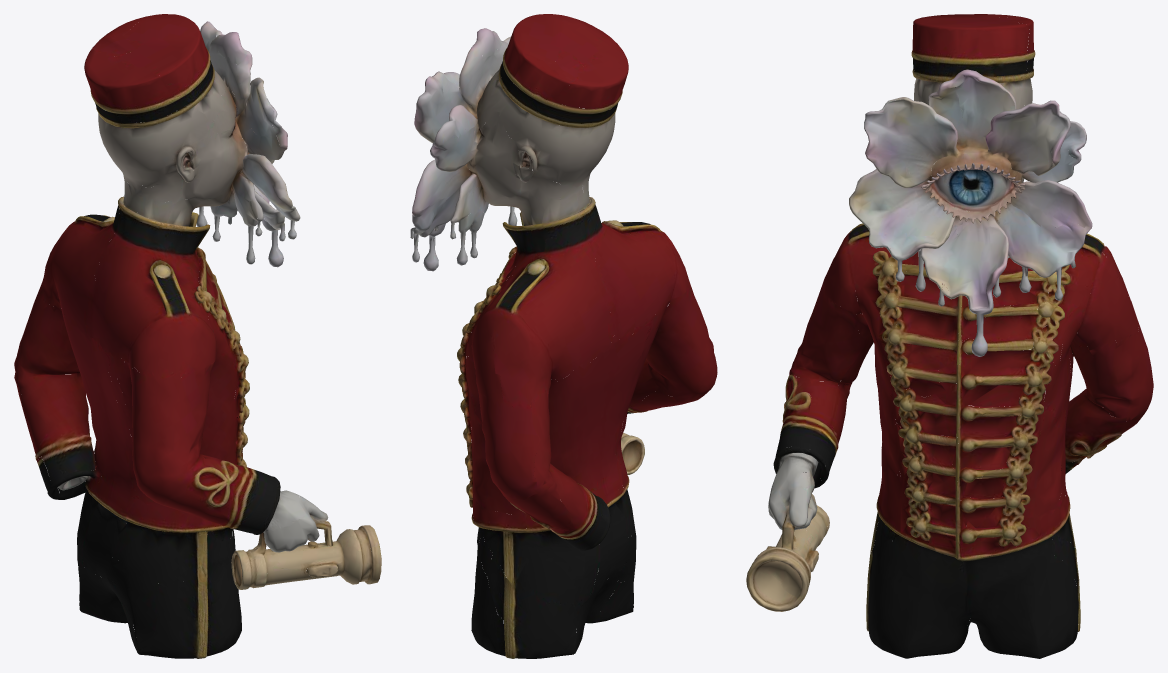
Rendered from usher.glb.
3 views of the same model, side by side, from view 1: azimuth 30°, elevation 25°; view 2: azimuth 150°, elevation 25°; view 3: azimuth 270°, elevation 25° (orthographic). The views are drawn at different scales.
Visible parts, largest first — view 1: tripo_node_609a2048-9cf5-4e91-bd56-d91e4a2d77e3; view 2: tripo_node_609a2048-9cf5-4e91-bd56-d91e4a2d77e3; view 3: tripo_node_609a2048-9cf5-4e91-bd56-d91e4a2d77e3.
Part boxes in pixels (x1=…): tripo_node_609a2048-9cf5-4e91-bd56-d91e4a2d77e3: x1=14, y1=14, x2=381, y2=658; tripo_node_609a2048-9cf5-4e91-bd56-d91e4a2d77e3: x1=410, y1=14, x2=717, y2=658; tripo_node_609a2048-9cf5-4e91-bd56-d91e4a2d77e3: x1=746, y1=14, x2=1153, y2=658.
Size of the model in its own units: 0.3845 by 1 by 0.5929.
Materials: 1 (1 with a texture image).
